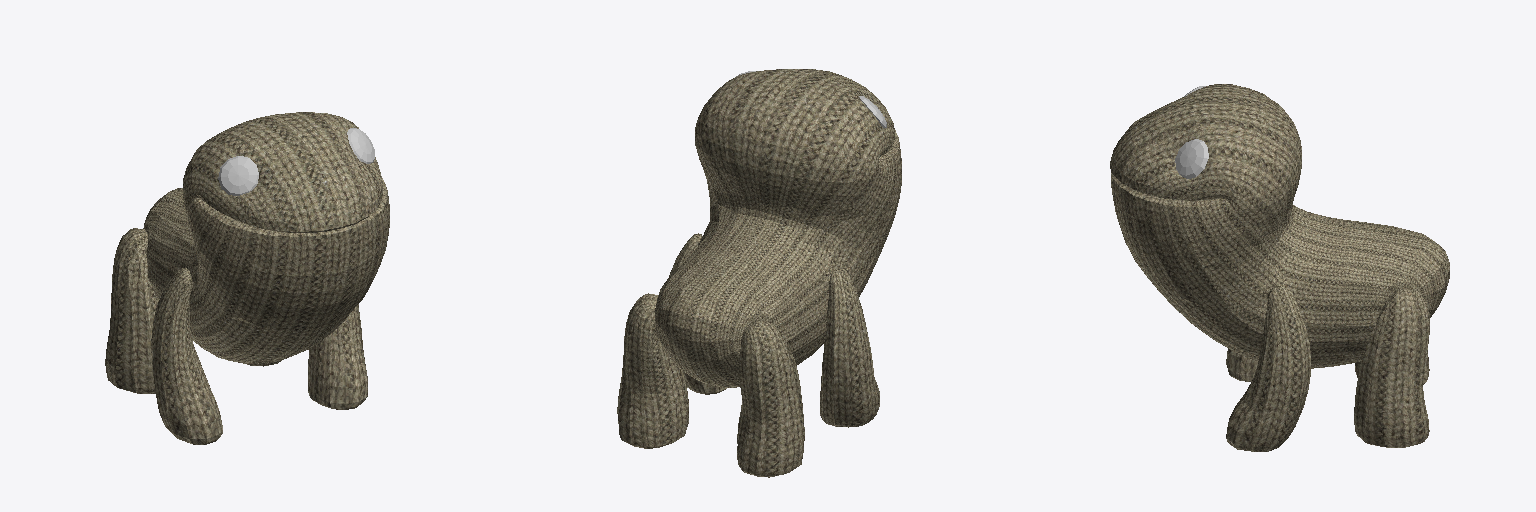
3 renders of one model, left to right at view 1: azimuth 30°, elevation 25°; view 2: azimuth 150°, elevation 25°; view 3: azimuth 270°, elevation 25°, orthographic.
Visible parts, largest first — view 1: skin, eyes; view 2: skin; view 3: skin, eyes.
Part boxes in pixels (x1,y1,x2,y2): skin: (105, 112, 389, 444); eyes: (218, 128, 374, 195); skin: (617, 69, 901, 477); skin: (1110, 84, 1449, 451); eyes: (1175, 86, 1208, 178).
Bounding box in the file's own units: 125 × 181 × 183.
3 materials, 1 textured.